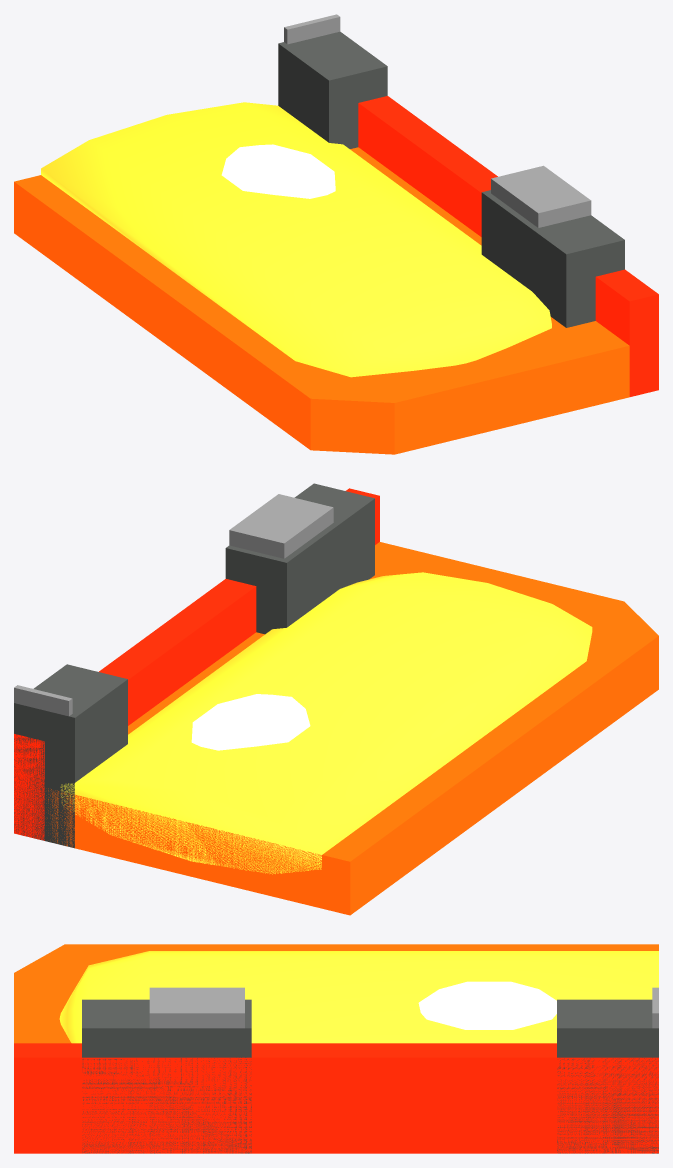
The model's file is newsha-39.glb.
The picture shows the model from 3 angles, top to bottom: view 1: azimuth 30°, elevation 25°; view 2: azimuth 150°, elevation 25°; view 3: azimuth 270°, elevation 25°; orthographic projection. The views are drawn at different scales.
Parts seen in each view (by area): view 1: newsha-39; view 2: newsha-39; view 3: newsha-39.
Part boxes in pixels (x1,y1,x2,y2): newsha-39: (14, 14, 658, 454); newsha-39: (14, 483, 658, 915); newsha-39: (14, 944, 658, 1153).
Size of the model in its own units: 0.9167 by 0.38 by 1.58.
